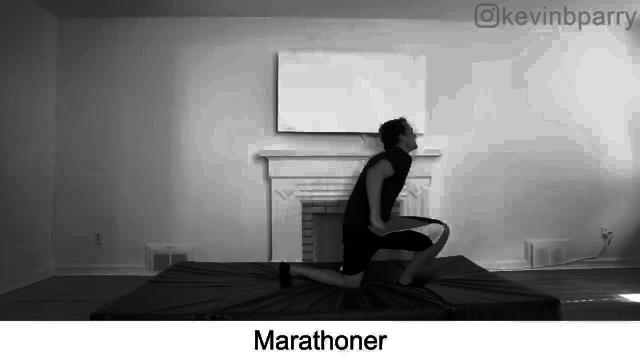jatuh: (272, 105, 462, 302)
